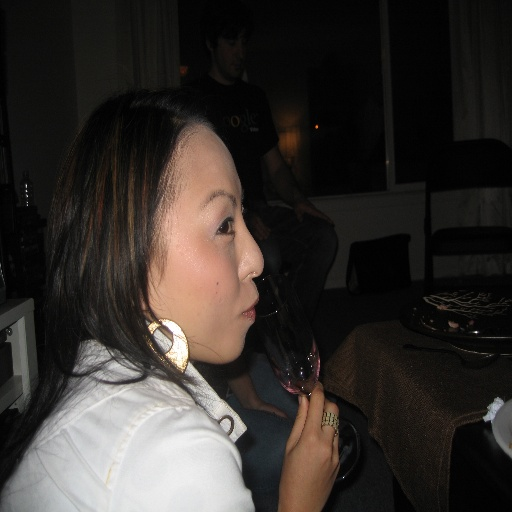hand: (284, 380, 342, 511), (291, 195, 335, 229), (241, 207, 272, 243), (254, 402, 287, 418)
